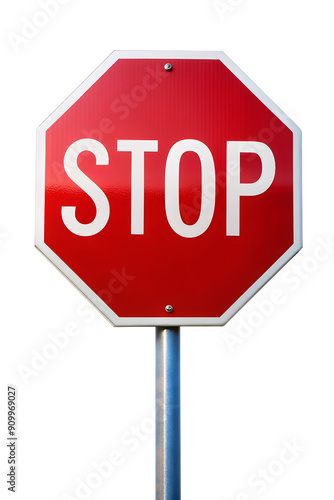StopSign: (34, 52, 302, 326)
